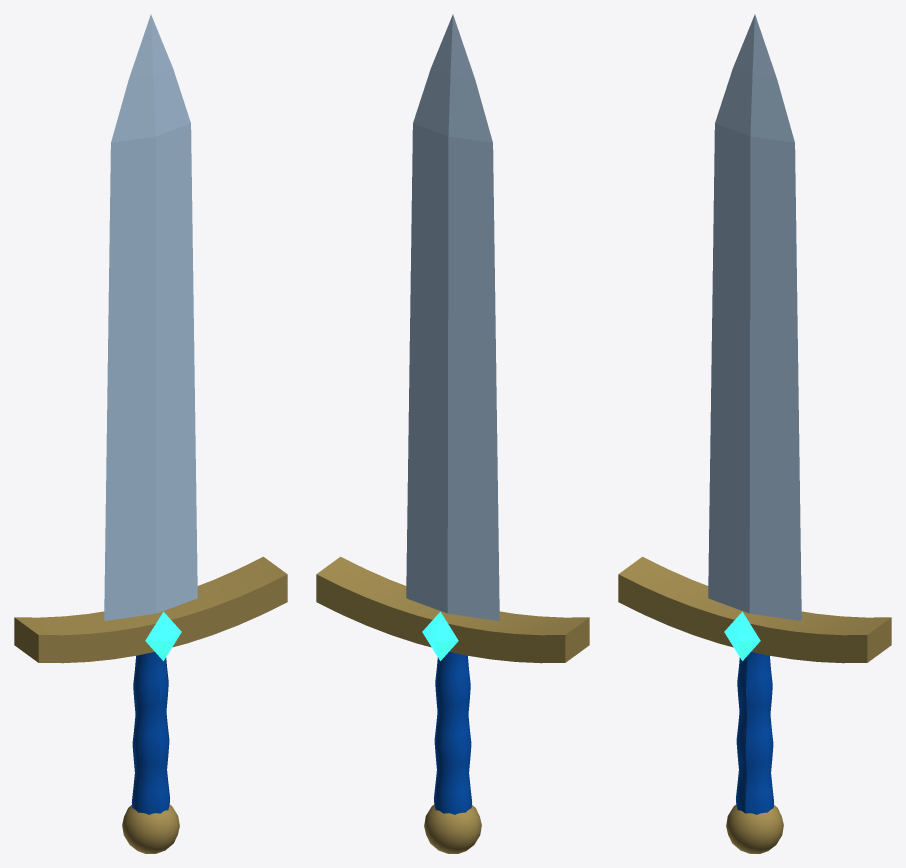
File: magic-sword.glb
The picture shows the model from 3 angles, left to right: view 1: azimuth 30°, elevation 25°; view 2: azimuth 150°, elevation 25°; view 3: azimuth 330°, elevation 25°; orthographic projection.
Parts seen in each view (by area): view 1: sword; view 2: sword; view 3: sword.
Part boxes in pixels (x1,y1,x2,y2): sword: (14,14,287,853); sword: (316,14,589,853); sword: (618,14,891,853).
Size of the model in its own units: 0.2982 by 0.958 by 0.0784.
